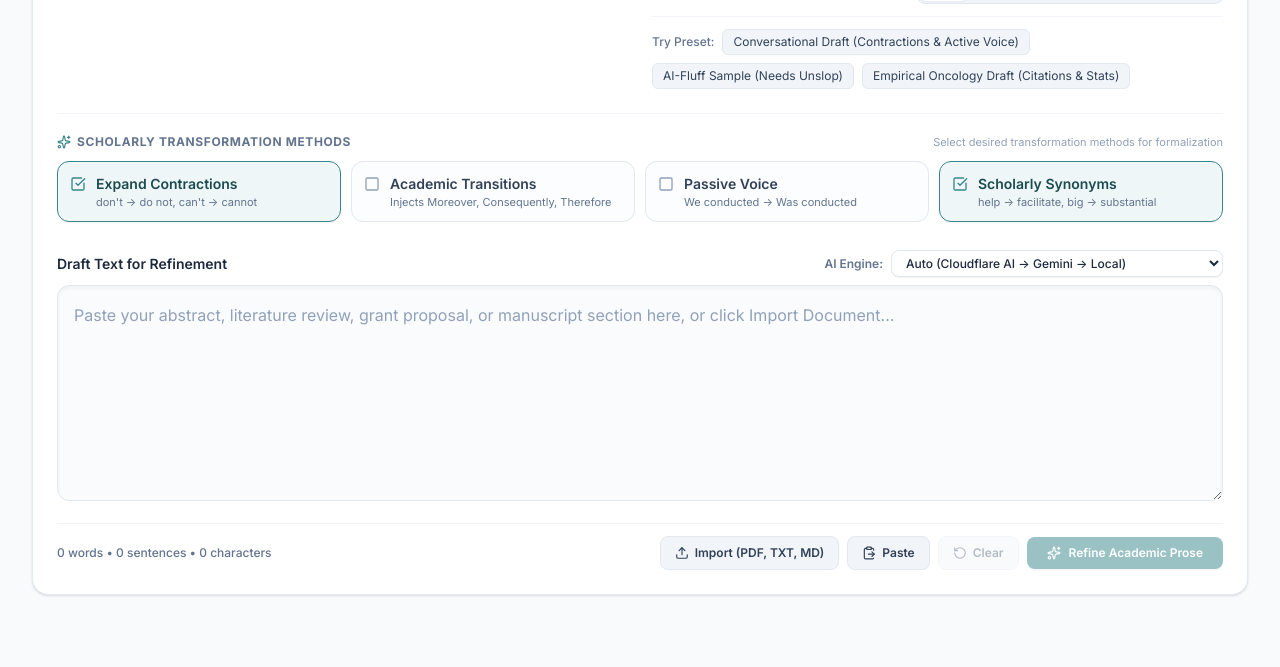
Scenario: AcademicRefiner Component (Task 5) › detects citations in input and displays Citation Shield badge
(page scrolled)
Replace the text in the text box with placeholder "Paste your abstract" with "This study delves into frameworks (Smith et al., 2023) and [1, 2]." at (640, 393), box x1=57 y1=285 x2=1223 y2=501
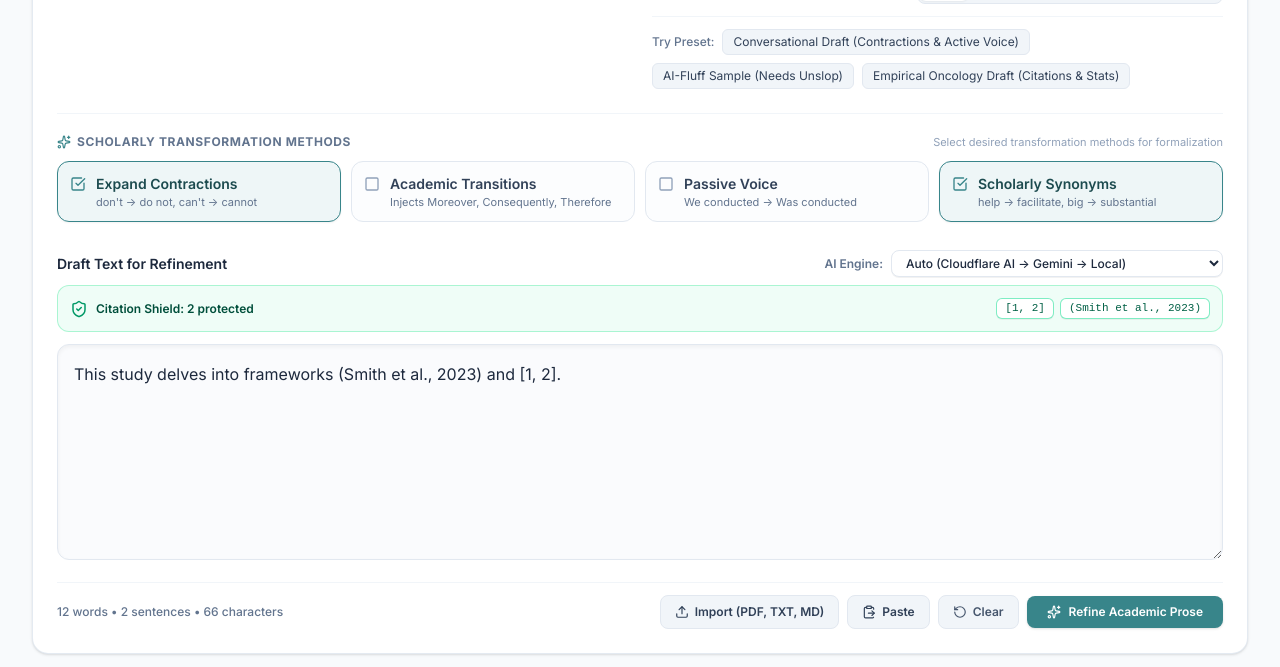
Check: the text "Citation Shield: 2 protected" is shown, box x1=96 y1=301 x2=254 y2=317
